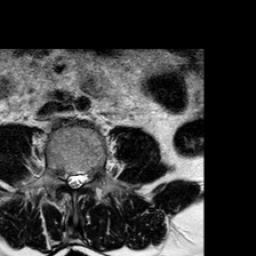CCS_severe_stenosis: (72, 163, 79, 196)
LFS_normal: (87, 157, 95, 186)
LLS_normal: (79, 163, 87, 190)
RFS_normal: (56, 159, 64, 185)
RLS_normal: (64, 163, 72, 190)
